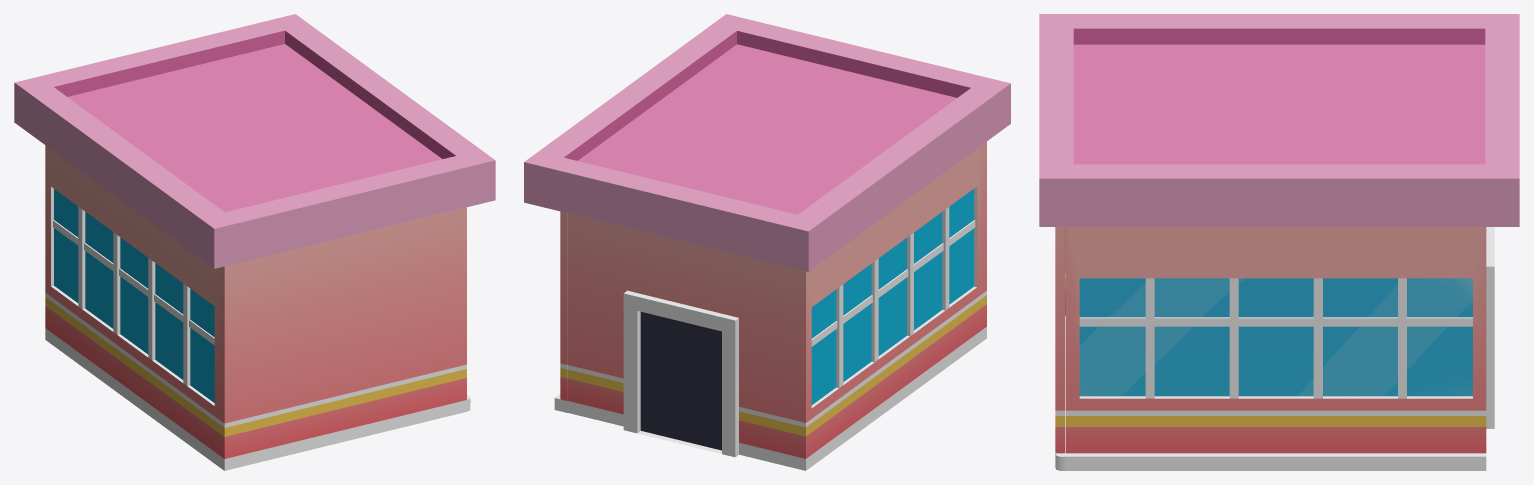
File: Lvl3_Home.fbx
3 renders of one model, left to right at view 1: azimuth 30°, elevation 25°; view 2: azimuth 150°, elevation 25°; view 3: azimuth 270°, elevation 25°, orthographic. The views are drawn at different scales.
Visible parts, largest first — view 1: Lvl3_Home; view 2: Lvl3_Home; view 3: Lvl3_Home.
Boxes of the visible parts, x1,y1,x2,y2 form: Lvl3_Home: [14, 14, 495, 470]; Lvl3_Home: [524, 14, 1010, 470]; Lvl3_Home: [1039, 14, 1519, 470].
Bounding box in the file's own units: 232 × 198 × 285.
